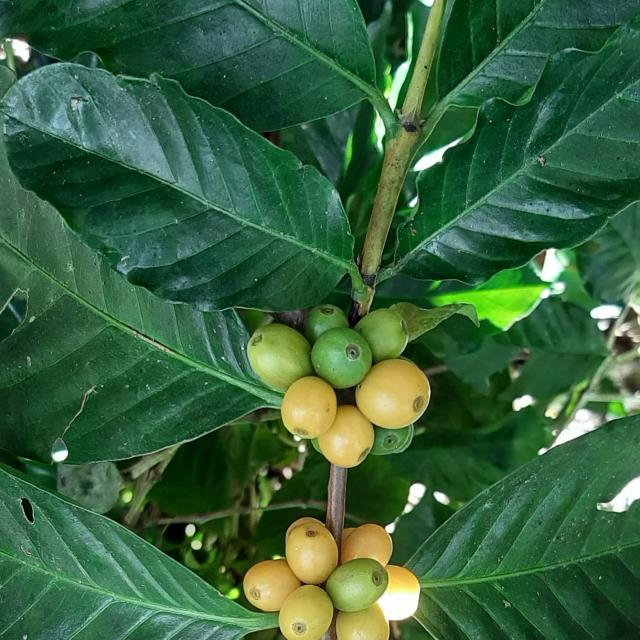green: (247, 324, 314, 391), (311, 328, 372, 389), (327, 559, 389, 613), (354, 309, 409, 363), (304, 304, 349, 344), (371, 425, 415, 456)
yellow: (356, 359, 431, 429), (281, 376, 338, 439), (318, 406, 375, 469), (286, 518, 339, 585), (243, 560, 301, 613), (279, 586, 334, 640), (378, 566, 421, 622), (340, 525, 393, 567), (336, 604, 389, 640)
